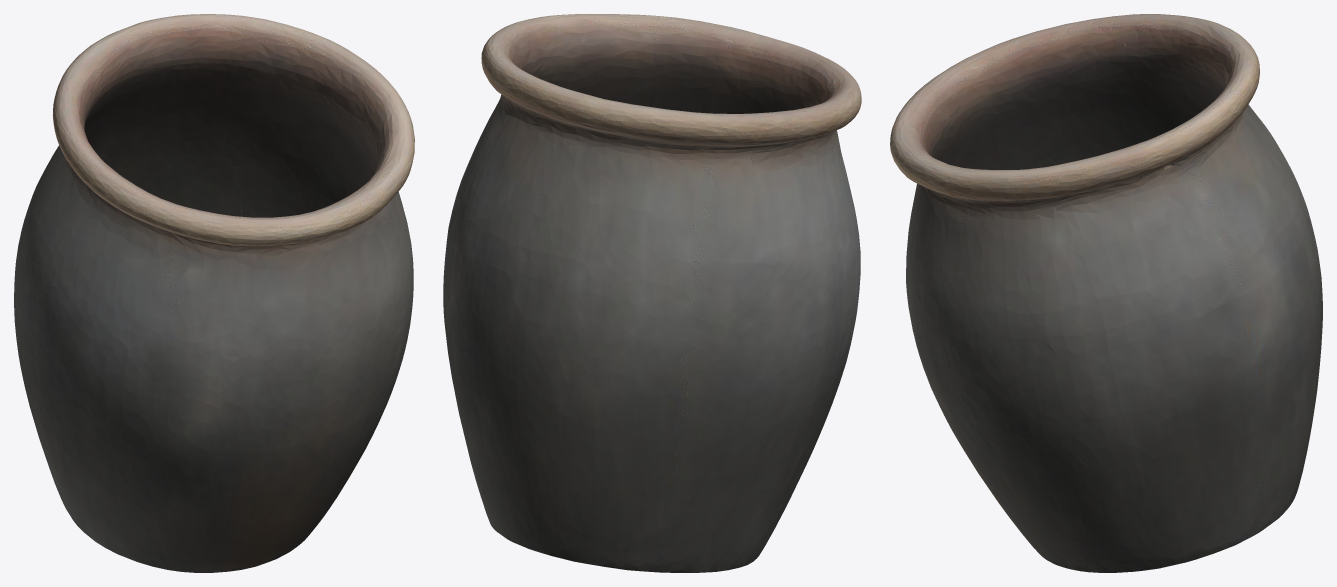
The model's file is large_dark_ceramic_jar_in_background_000.glb.
3 views of the same model, side by side, from view 1: azimuth 30°, elevation 25°; view 2: azimuth 150°, elevation 25°; view 3: azimuth 270°, elevation 25° (orthographic). The views are drawn at different scales.
Visible parts, largest first — view 1: large_dark_ceramic_jar_in_background_000.obj; view 2: large_dark_ceramic_jar_in_background_000.obj; view 3: large_dark_ceramic_jar_in_background_000.obj.
Part boxes in pixels (x1=…): large_dark_ceramic_jar_in_background_000.obj: x1=14, y1=14, x2=414, y2=572; large_dark_ceramic_jar_in_background_000.obj: x1=443, y1=14, x2=861, y2=572; large_dark_ceramic_jar_in_background_000.obj: x1=890, y1=14, x2=1322, y2=572.
Bounding box in the file's own units: 0.2622 × 0.3464 × 0.2828.
1 material, 1 textured.
